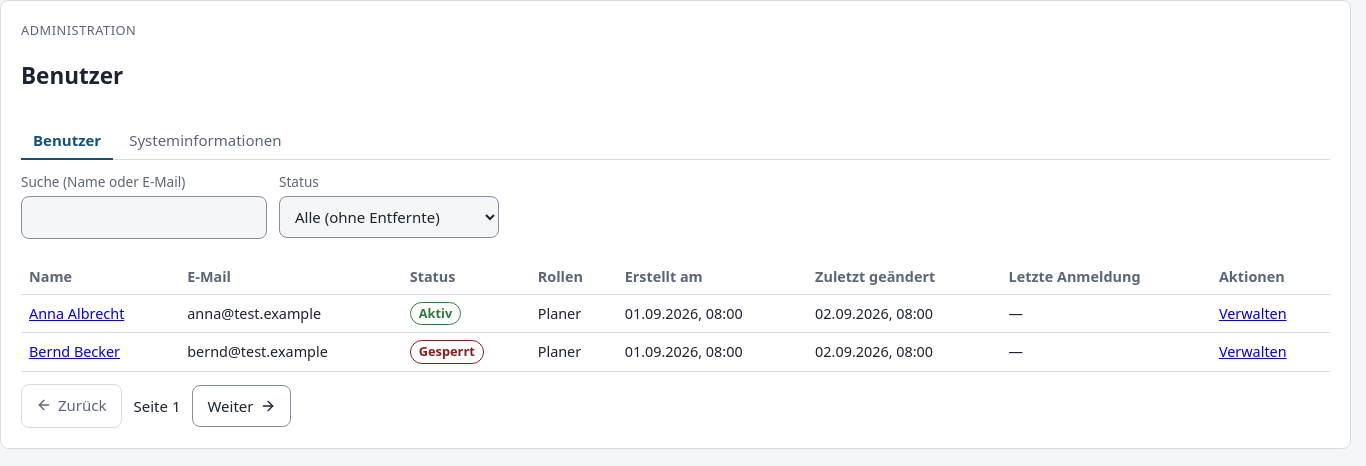
Test case: Einladen und Einladungen verwalten › zeigt Lesern keine Aktionen für Einladungen
Expected: the link "Anna Albrecht" is shown, [29,304,124,323]
What coordinates should you click on to do the following:
click the button "Weiter"
I would click on:
 (242, 406)
Its box is [192,385,291,427].
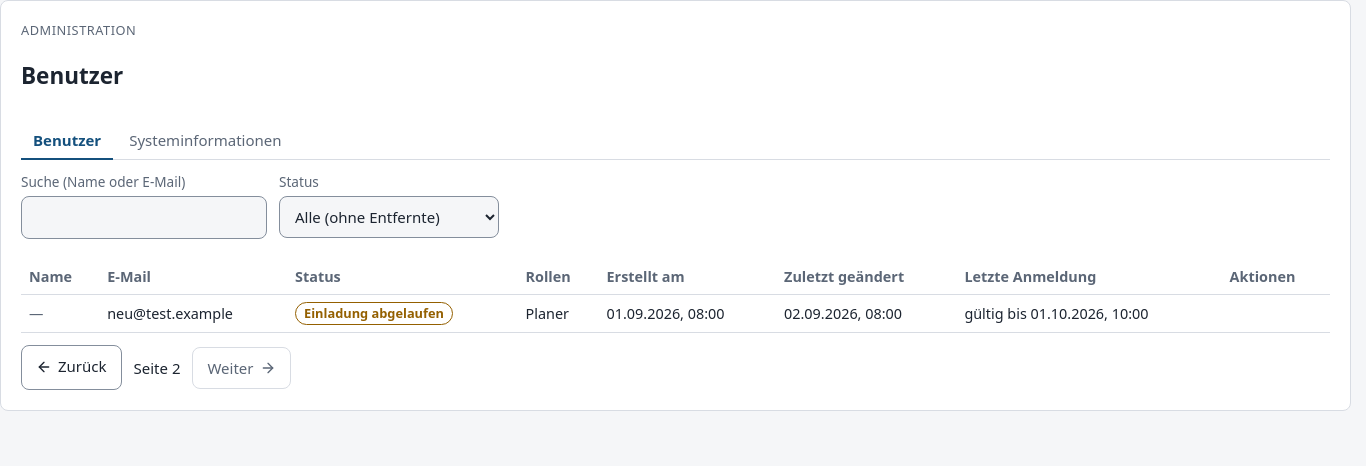
Expected: the text "neu@test.example" is shown, [99,295,287,333]
